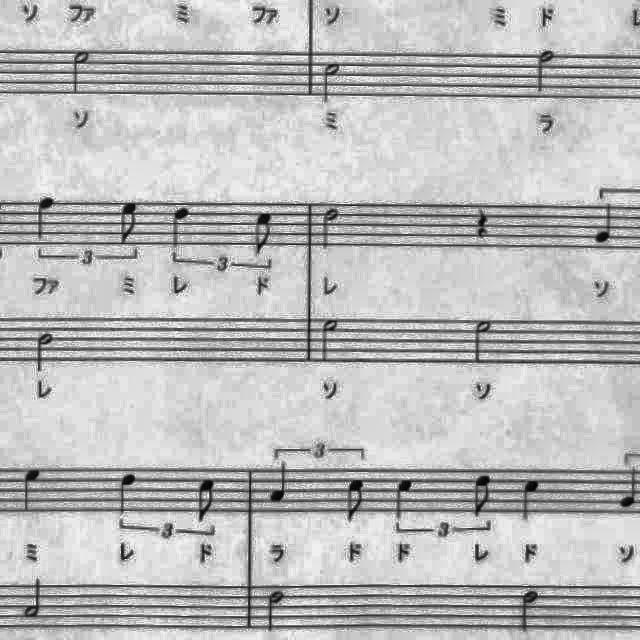Eighth-note: (341, 472, 373, 528), (248, 208, 280, 260), (192, 474, 224, 526), (114, 196, 146, 248), (467, 470, 498, 522)
Half-note: (468, 316, 499, 368), (532, 46, 560, 98), (315, 314, 343, 366), (66, 47, 94, 99), (263, 588, 293, 636), (318, 57, 347, 106), (518, 585, 546, 635), (316, 204, 344, 252), (20, 575, 48, 623), (31, 328, 58, 376)
Quarter-note: (18, 462, 50, 516), (111, 468, 143, 518), (588, 197, 620, 247), (388, 473, 420, 523), (166, 202, 196, 254), (517, 475, 547, 525), (30, 192, 58, 244), (265, 460, 295, 508), (616, 463, 640, 513)
Quarter-rest: (470, 200, 500, 243)
